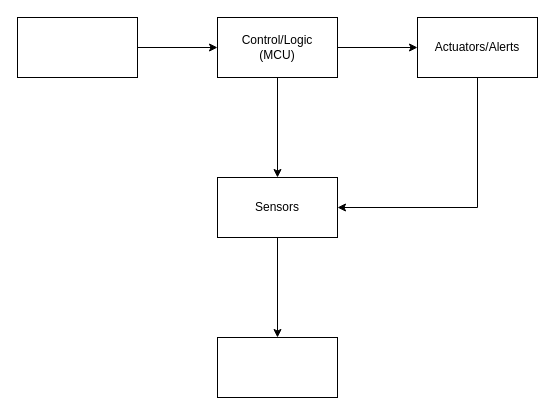
This 555x415 diagram has some shape labels left out. The centre of each missing label's shape, as x and y in pixels:
Logs: point 277,367
Schedule & RTC: point 77,47
